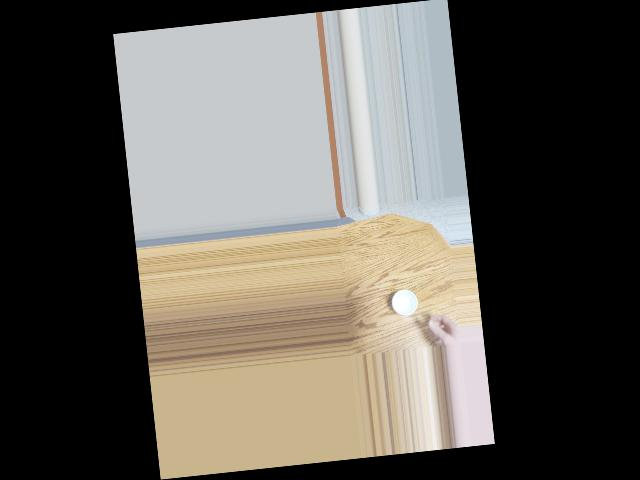cotage: (390, 285, 422, 321)
